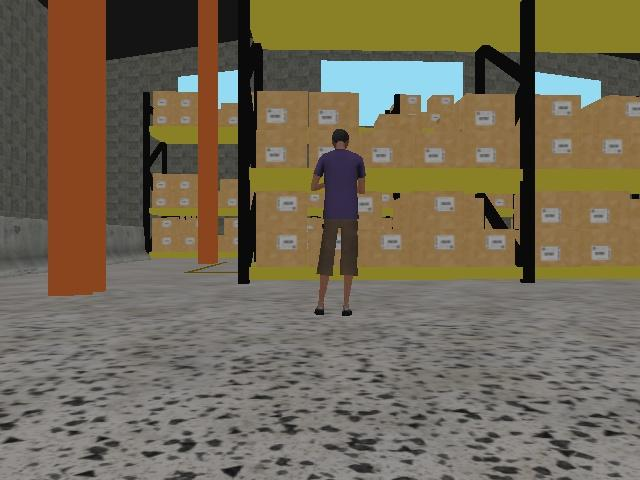person: (308, 127, 368, 319)
